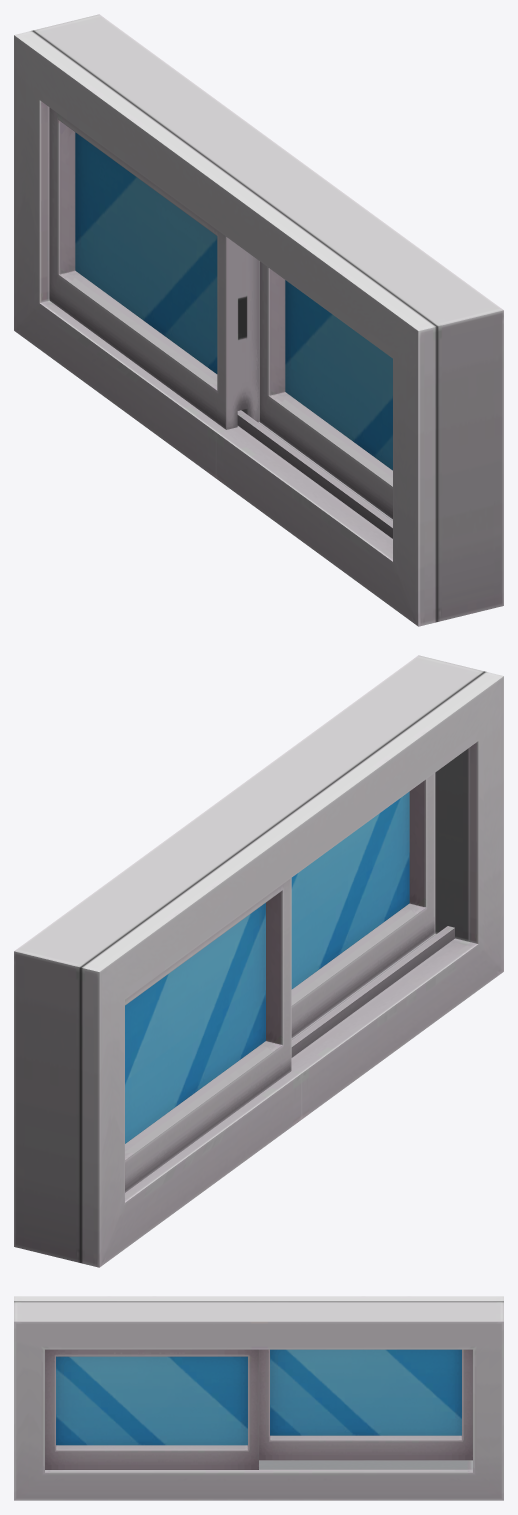
File: my_gamecenter_01_p_window_01.glb
3 renders of one model, top to bottom at view 1: azimuth 30°, elevation 25°; view 2: azimuth 150°, elevation 25°; view 3: azimuth 270°, elevation 25°, orthographic. The views are drawn at different scales.
Visible parts, largest first — view 1: my_gamecenter_01_p_window_01; view 2: my_gamecenter_01_p_window_01; view 3: my_gamecenter_01_p_window_01.
Boxes of the visible parts, left/top/right/bottom form: my_gamecenter_01_p_window_01: left=14, top=14, right=503, bottom=626; my_gamecenter_01_p_window_01: left=14, top=655, right=503, bottom=1267; my_gamecenter_01_p_window_01: left=14, top=1296, right=503, bottom=1500.
Bounding box in the file's own units: 0.00141 × 0.00467 × 0.0116.
1 material, 1 textured.
